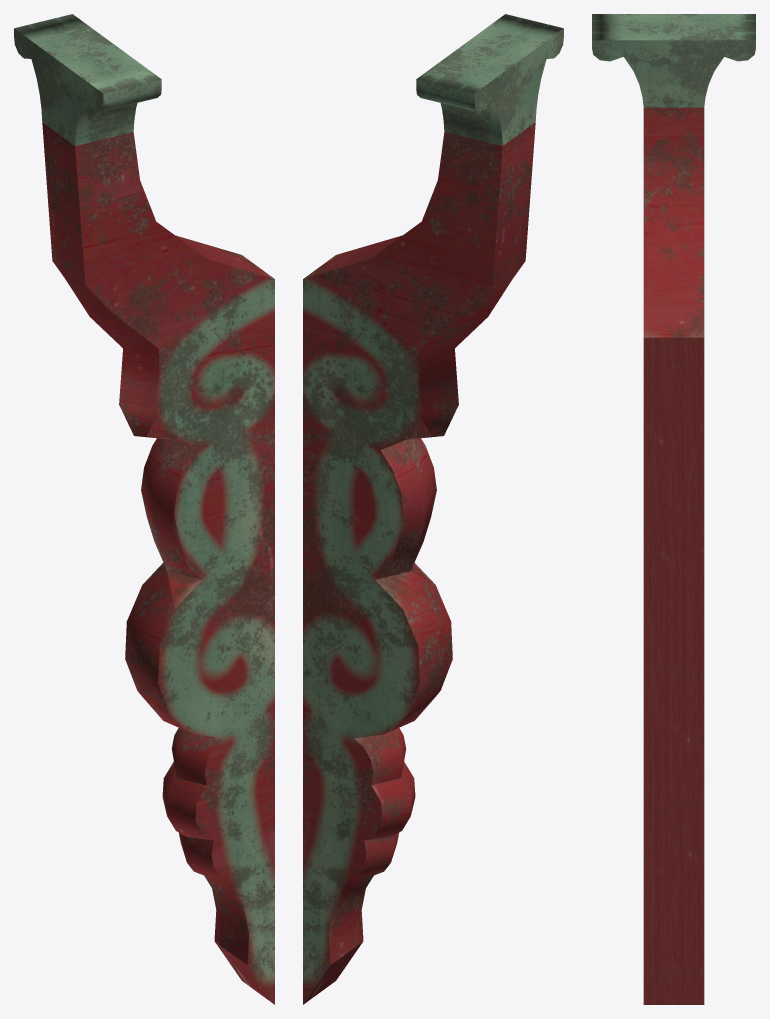
The model's file is SM_M_Handrail_3.fbx.
3 views of the same model, side by side, from view 1: azimuth 30°, elevation 25°; view 2: azimuth 150°, elevation 25°; view 3: azimuth 270°, elevation 25° (orthographic). The views are drawn at different scales.
Visible parts, largest first — view 1: SM_M_Handrail_3; view 2: SM_M_Handrail_3; view 3: SM_M_Handrail_3.
Boxes of the visible parts, bbox=[...] form: SM_M_Handrail_3: bbox=[14, 14, 274, 1004]; SM_M_Handrail_3: bbox=[303, 14, 563, 1004]; SM_M_Handrail_3: bbox=[592, 14, 755, 1004].
Bounding box in the file's own units: 38.76 × 29.99 × 182.
Materials: 3 (3 with a texture image).
